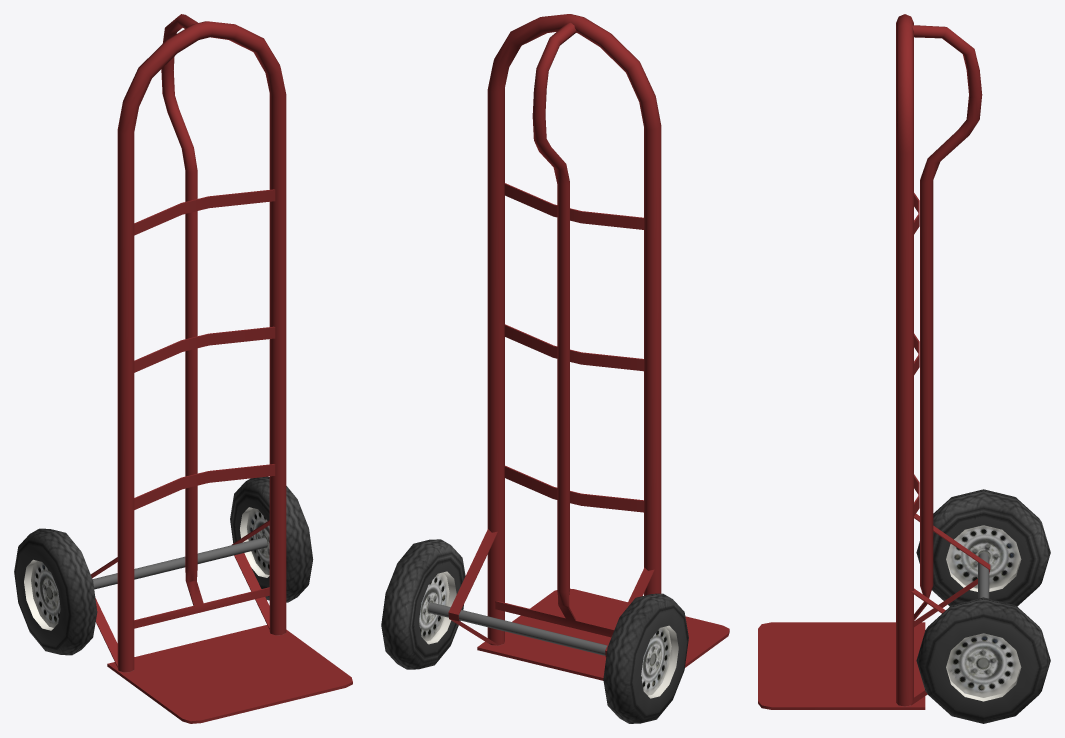
File: W_HandDolly.fbx
3 views of the same model, side by side, from view 1: azimuth 30°, elevation 25°; view 2: azimuth 150°, elevation 25°; view 3: azimuth 270°, elevation 25° (orthographic). The views are drawn at different scales.
Parts seen in each view (by area): view 1: Handtruck_bottom; view 2: Handtruck_bottom; view 3: Handtruck_bottom.
Part boxes in pixels (x1,y1,x2,y2): Handtruck_bottom: [14, 14, 352, 723]; Handtruck_bottom: [381, 14, 729, 723]; Handtruck_bottom: [758, 14, 1050, 723].
Bounding box in the file's own units: 0.3193 × 0.7922 × 0.325.
